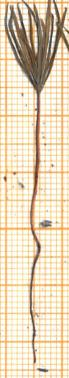flower: (3, 0, 67, 92)
root: (26, 224, 44, 365)
stem: (28, 92, 44, 224)
